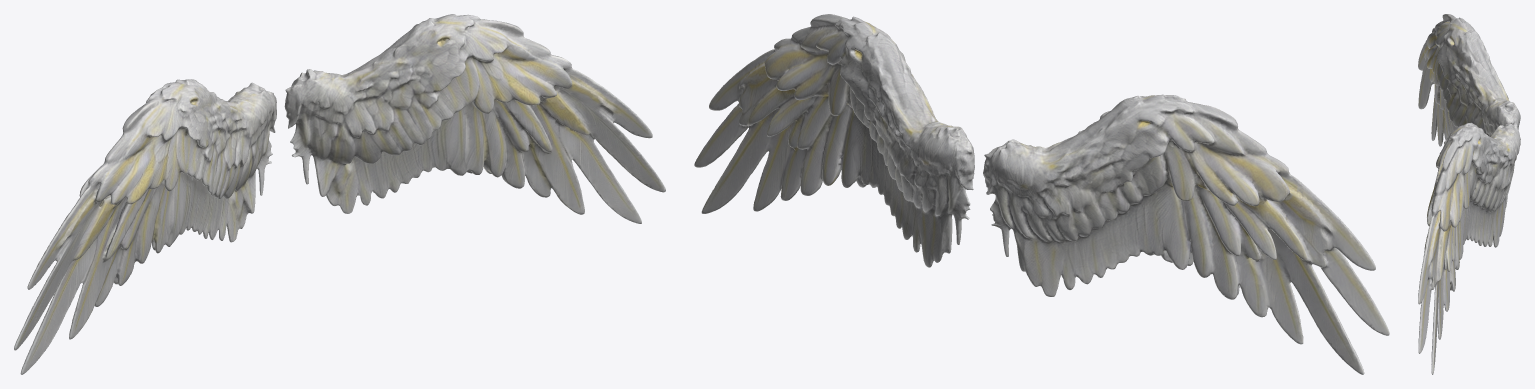
File: wings.glb
3 views of the same model, side by side, from view 1: azimuth 30°, elevation 25°; view 2: azimuth 150°, elevation 25°; view 3: azimuth 270°, elevation 25° (orthographic). The views are drawn at different scales.
Size of the model in its own units: 1.9 by 0.6543 by 0.3347.
Materials: 1 (1 with a texture image).
